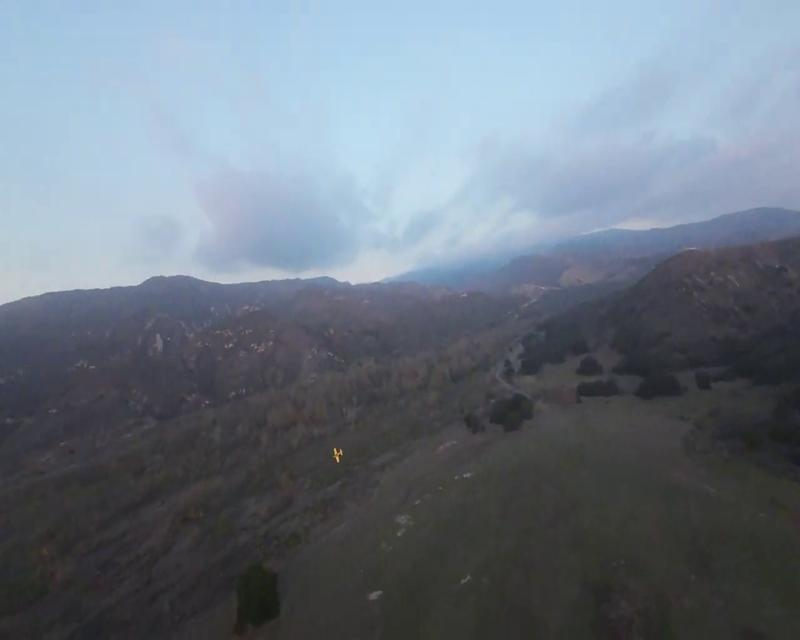UAV: (333, 448, 343, 463)
